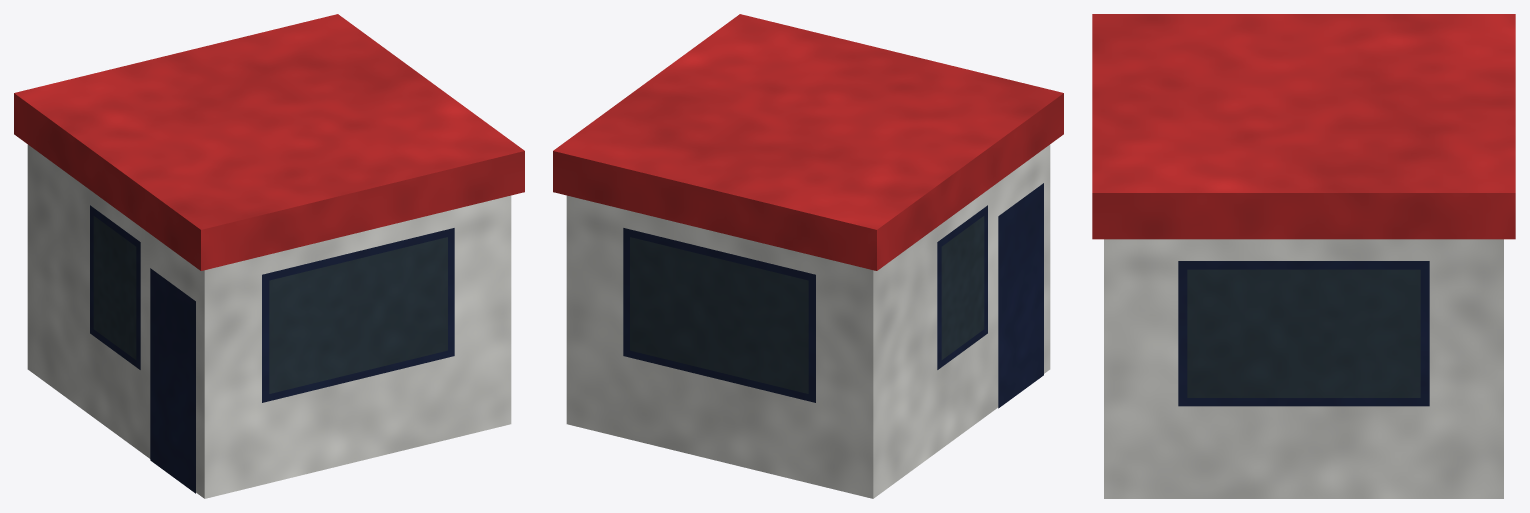
Rendered from SM_MoloItalia_InfoPoint_Rosso_LOD1.fbx.
3 renders of one model, left to right at view 1: azimuth 30°, elevation 25°; view 2: azimuth 150°, elevation 25°; view 3: azimuth 270°, elevation 25°, orthographic. The views are drawn at different scales.
Parts seen in each view (by area): view 1: SM_MoloItalia_InfoPoint_Rosso_LOD1; view 2: SM_MoloItalia_InfoPoint_Rosso_LOD1; view 3: SM_MoloItalia_InfoPoint_Rosso_LOD1.
Boxes of the visible parts, bbox=[...] form: SM_MoloItalia_InfoPoint_Rosso_LOD1: bbox=[14, 14, 524, 498]; SM_MoloItalia_InfoPoint_Rosso_LOD1: bbox=[553, 14, 1063, 498]; SM_MoloItalia_InfoPoint_Rosso_LOD1: bbox=[1092, 14, 1515, 498].
Bounding box in the file's own units: 370 × 370 × 300.
1 material, 1 textured.
